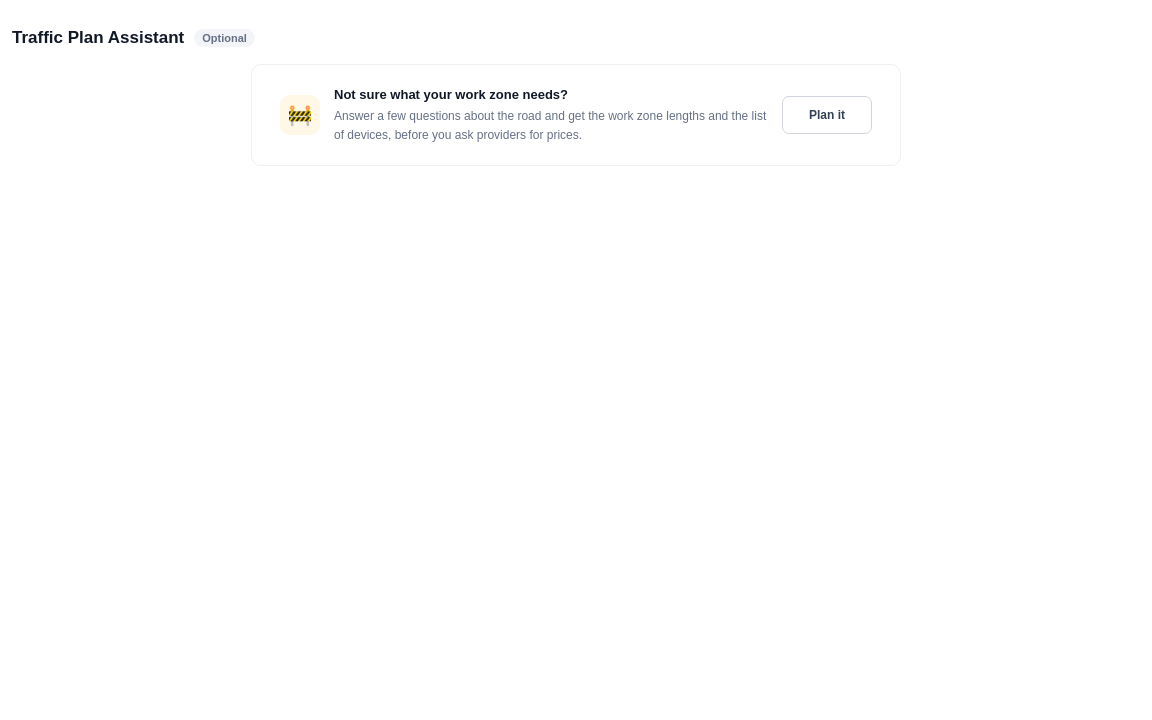
Test case: AiTrafficPlan › مع AI مفعّل يظهر ✨ في عنوان الشرح
Click the button "Plan it". click: click(827, 115)
box: [782,96,872,134]
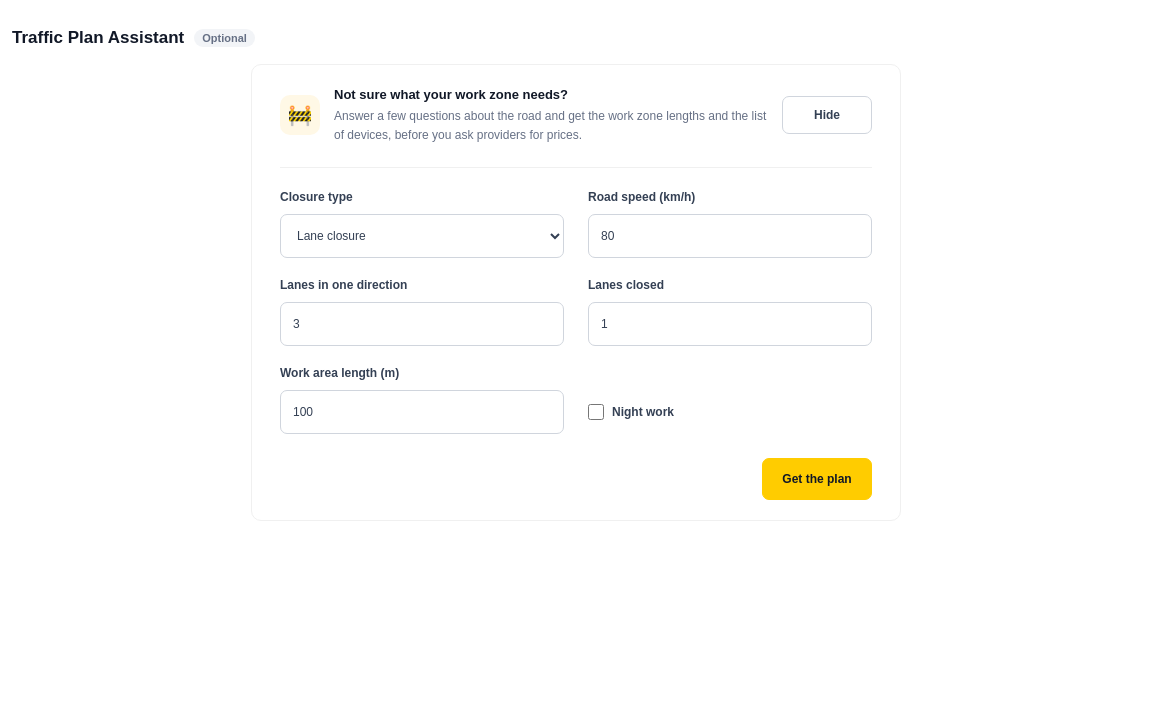
Click the button "Get the plan". click: click(817, 479)
box: [762,458,872,500]
(page scrolled)
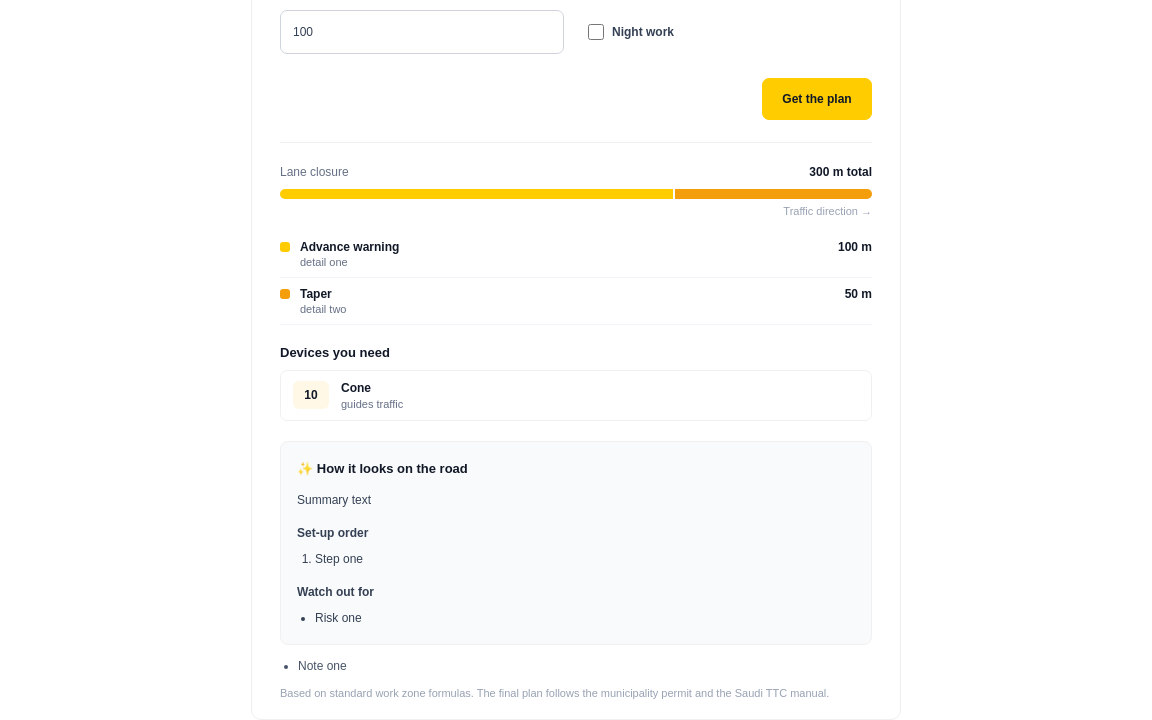
Expected: the heading "✨ How it looks on the road" is shown, [297,461,468,476]
